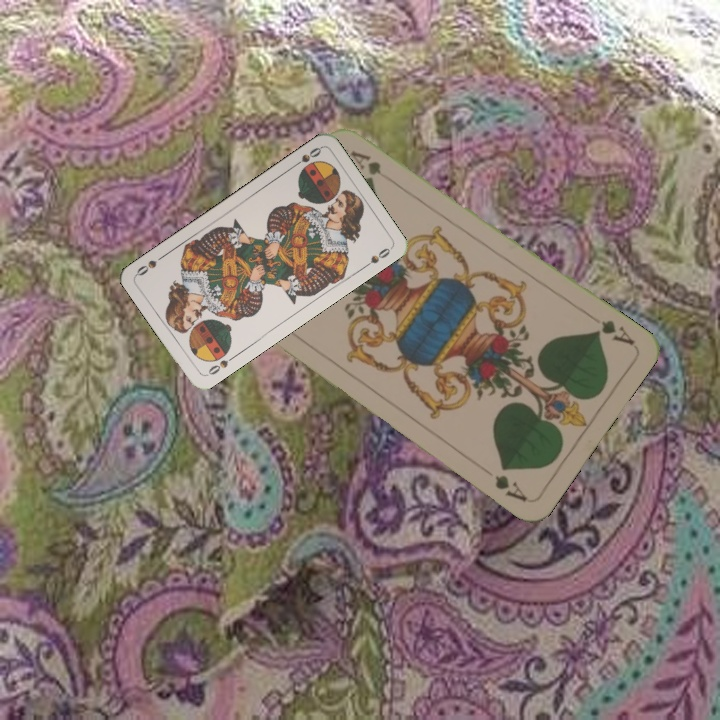GA: (590, 315, 637, 348)
SO: (202, 347, 238, 379), (288, 143, 324, 171)
